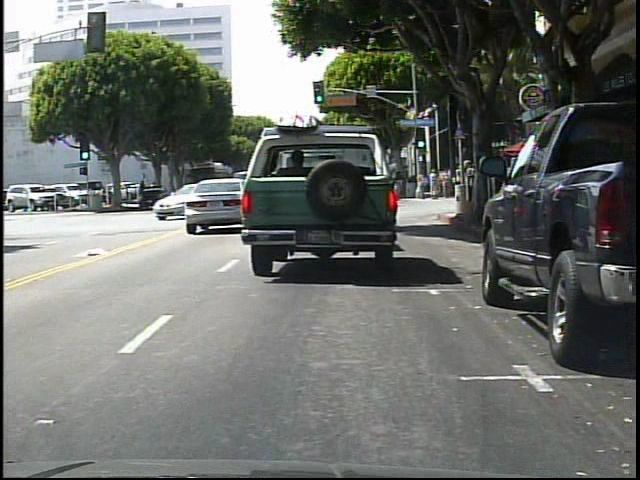person: (429, 167, 440, 200), (441, 168, 452, 199), (417, 170, 427, 200)
